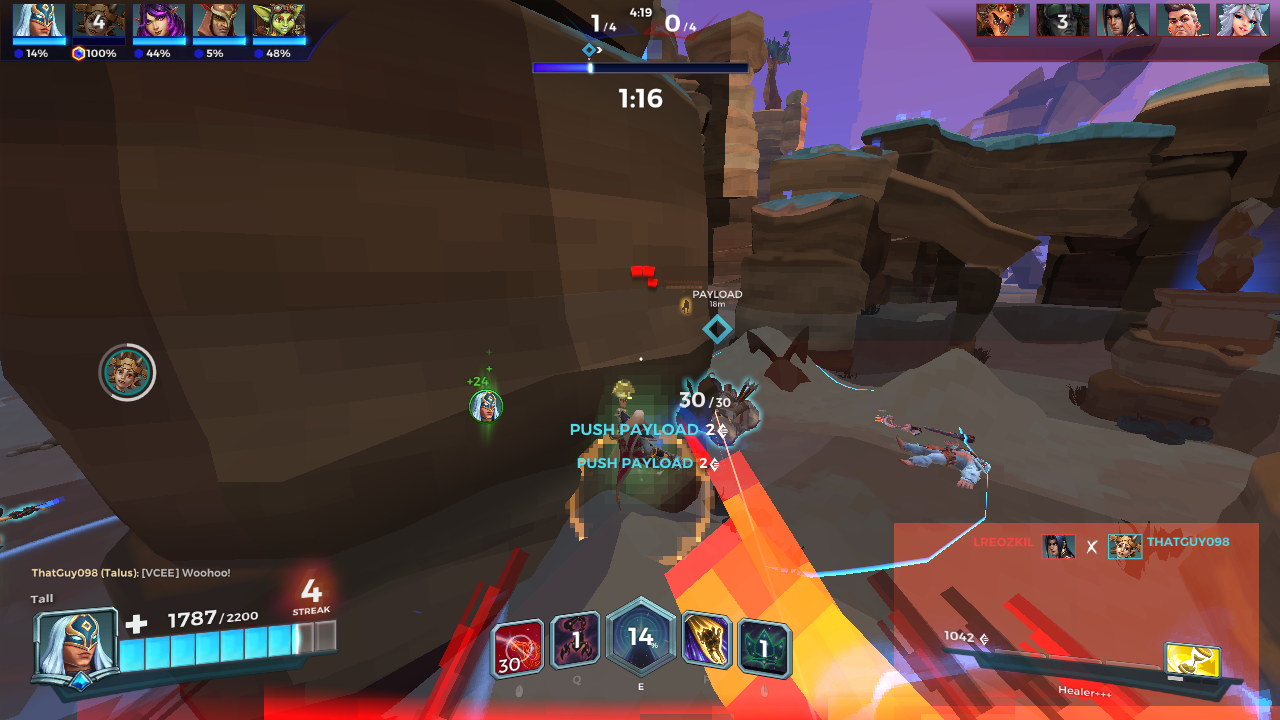model: (680, 295, 694, 314)
